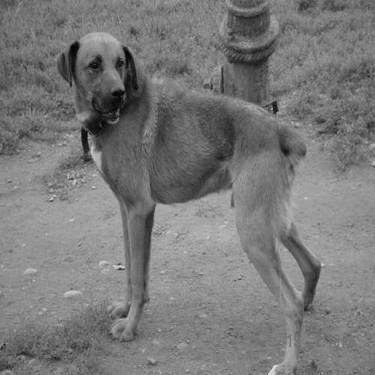dog: (46, 20, 326, 373)
